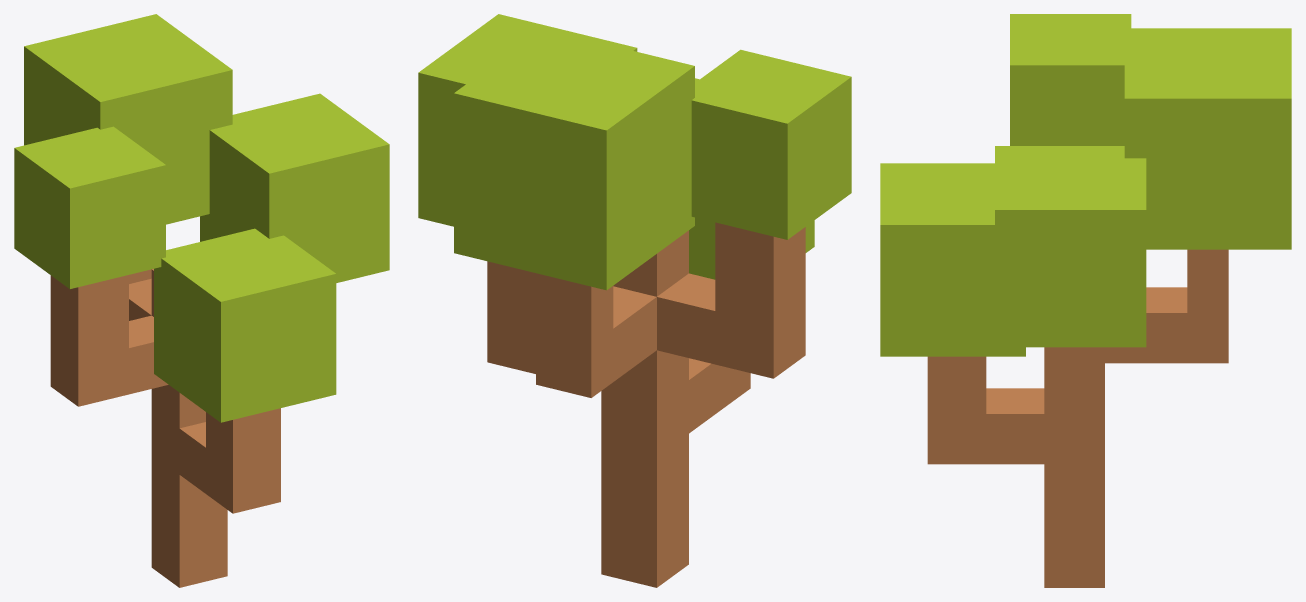
File: Tree.fbx
3 renders of one model, left to right at view 1: azimuth 30°, elevation 25°; view 2: azimuth 150°, elevation 25°; view 3: azimuth 270°, elevation 25°, orthographic. The views are drawn at different scales.
Visible parts, largest first — view 1: Tree; view 2: Tree; view 3: Tree.
Part boxes in pixels (bbox=[...]): Tree: bbox=[14, 14, 389, 587]; Tree: bbox=[418, 14, 851, 587]; Tree: bbox=[880, 14, 1291, 587].
Size of the model in its own units: 5.2 by 7.45 by 5.42.
